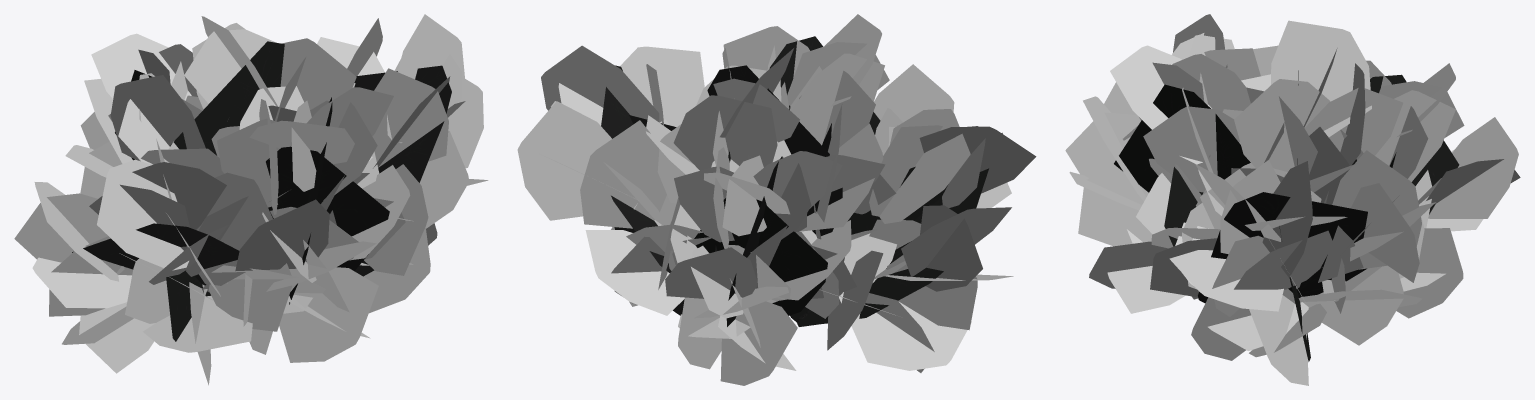
File: bush_01.fbx
The picture shows the model from 3 angles, left to right: view 1: azimuth 30°, elevation 25°; view 2: azimuth 150°, elevation 25°; view 3: azimuth 270°, elevation 25°; orthographic projection.
Visible parts, largest first — view 1: Polygon; view 2: Polygon; view 3: Polygon.
Part boxes in pixels (left/top/right/bottom): Polygon: left=14, top=14, right=488, bottom=385; Polygon: left=517, top=14, right=1036, bottom=385; Polygon: left=1065, top=14, right=1520, bottom=385.
Size of the model in its own units: 667 by 432 by 585.
